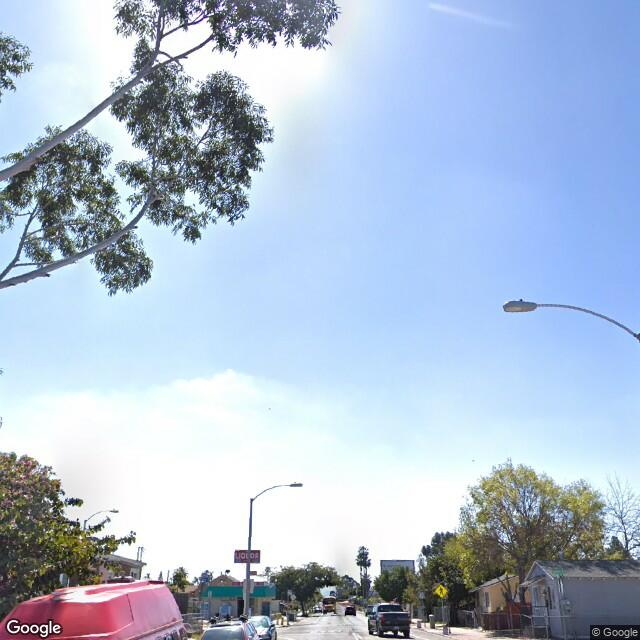light: (498, 297, 540, 313)
